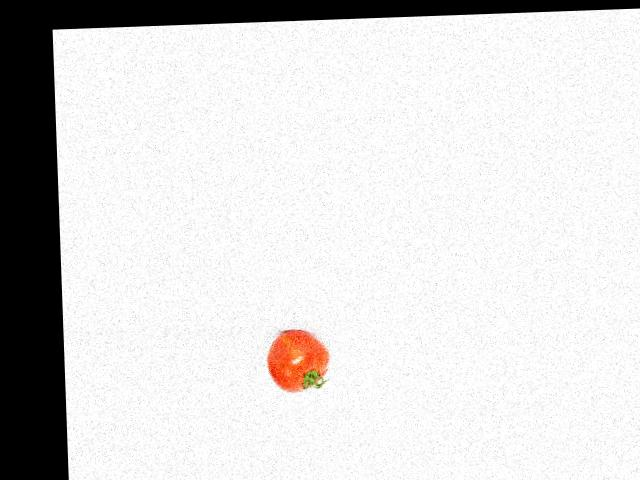tomato: (265, 328, 330, 394)
